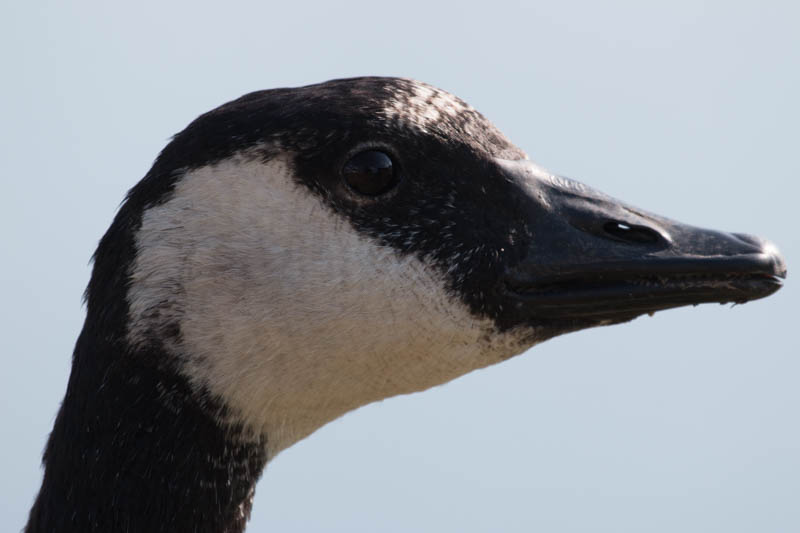goose-head: (70, 75, 789, 455)
